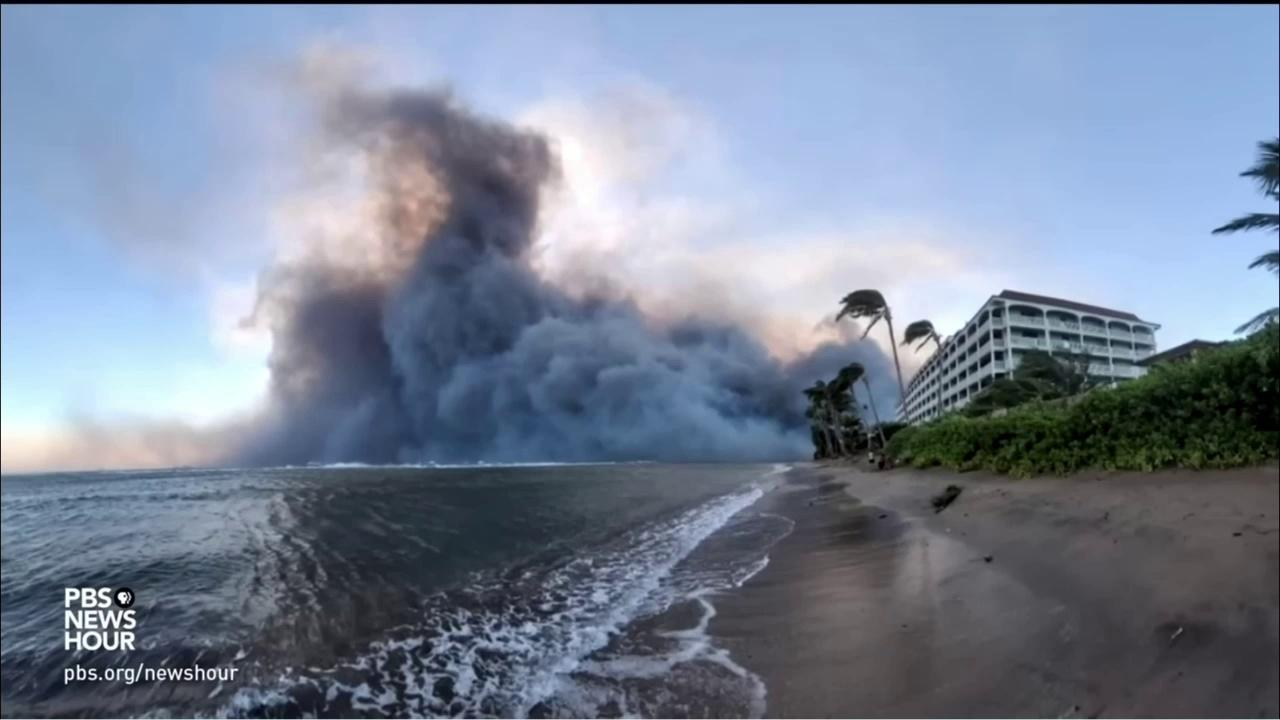smoke: (32, 23, 911, 467)
